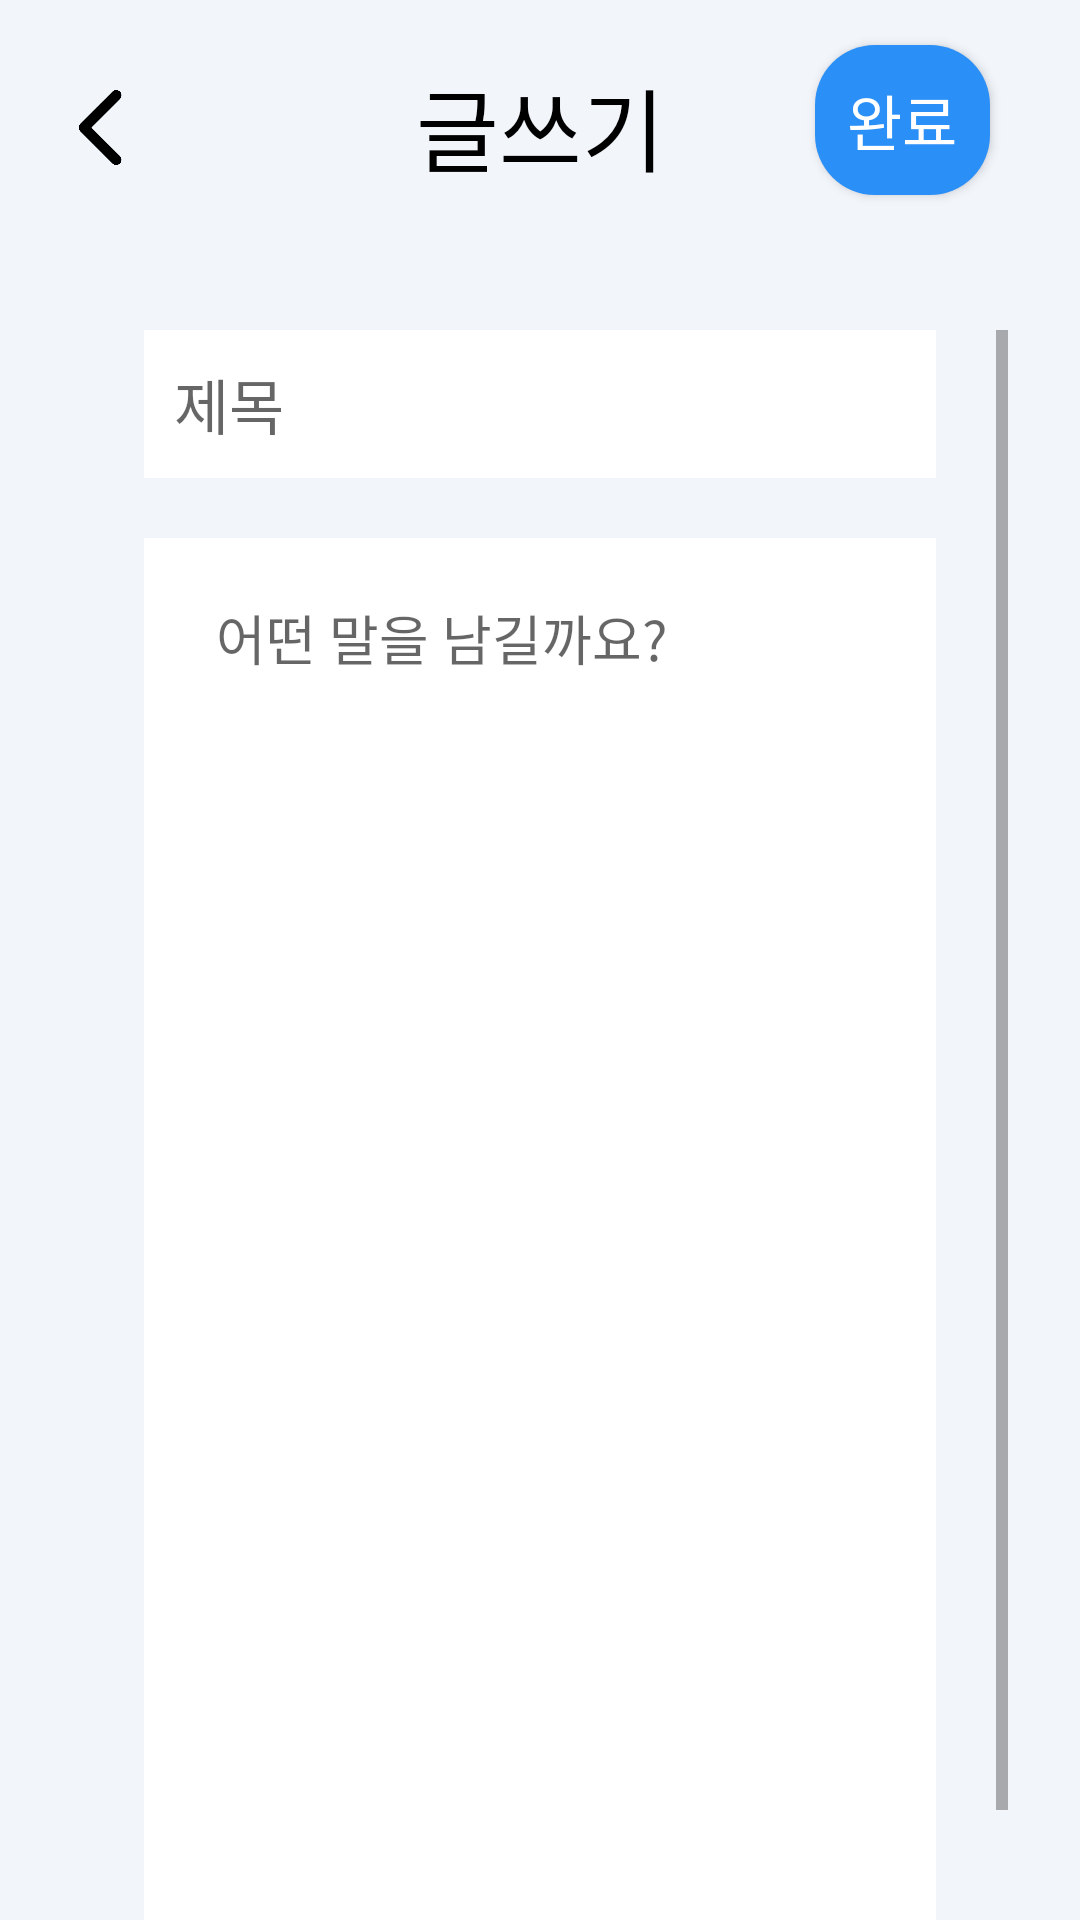

Screen size 1080 × 1920. Icon name, then its center in pixels as (x,y):
left arrow: (100,127)
